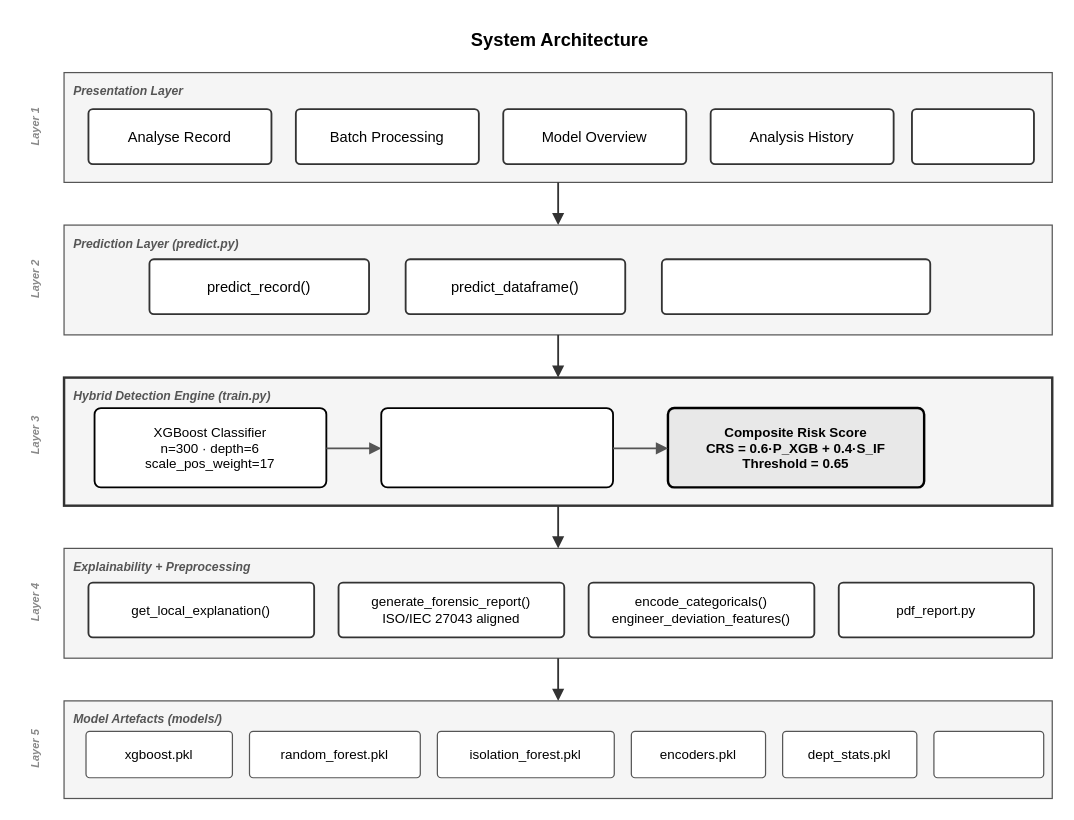
Image size: 1074x820. Some labels were removed from this diagram. Here are the shapes that lost their labels. From the top down, the centre of each, then its label:
At [972,136]: "Theme Toggle / PDF Download".
At [795,286]: "compute_composite_score()".
At [496,447]: "Isolation Forest n=200 contamination=0.054".
At [988,754]: "threshold.pkl".
